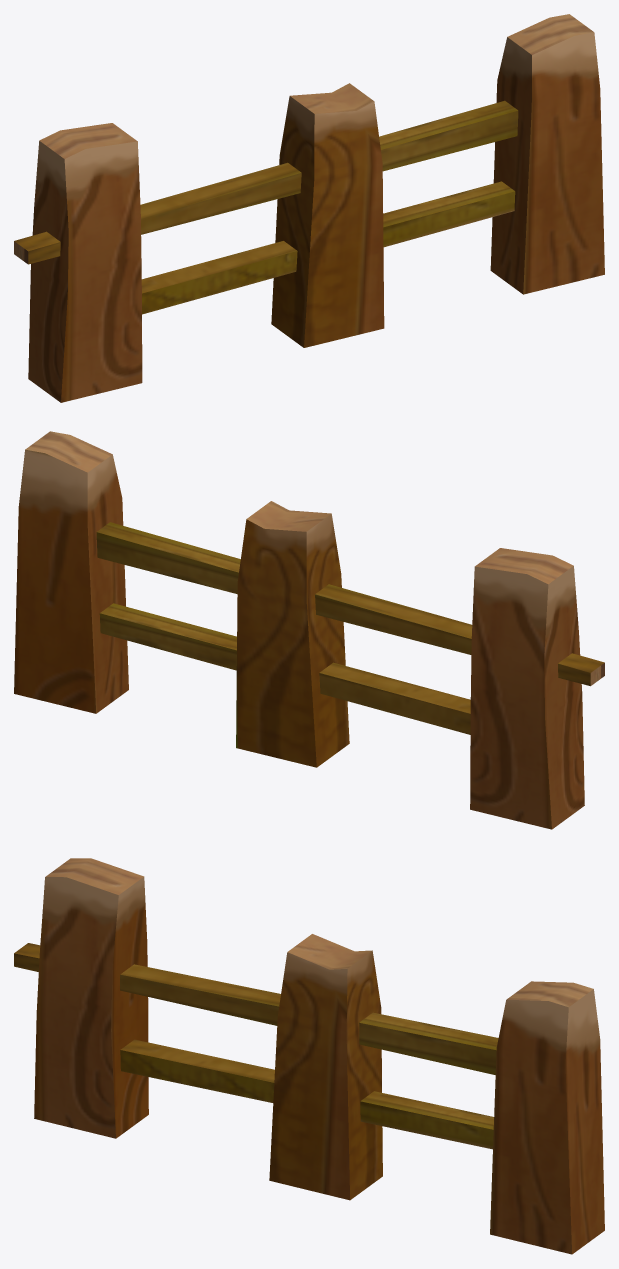
File: Fence_04.FBX
3 views of the same model, one above another, from view 1: azimuth 30°, elevation 25°; view 2: azimuth 150°, elevation 25°; view 3: azimuth 330°, elevation 25° (orthographic).
Parts seen in each view (by area): view 1: fence_04; view 2: fence_04; view 3: fence_04.
Boxes of the visible parts, x1=… form: fence_04: x1=14, y1=14, x2=604, y2=402; fence_04: x1=14, y1=431, x2=604, y2=829; fence_04: x1=14, y1=858, x2=604, y2=1254.
Bounding box in the file's own units: 99.96 × 41.26 × 12.34.
